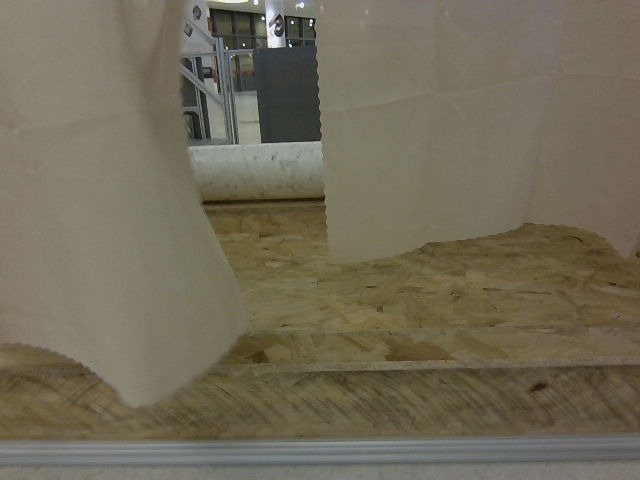curtain: (0, 0, 640, 413)
